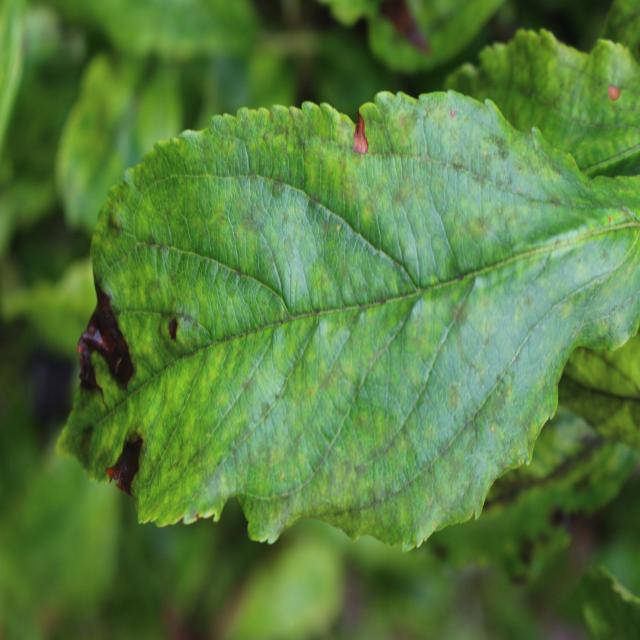scab: (60, 113, 638, 541)
